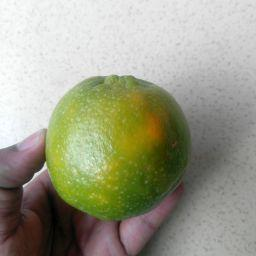Unripe: (46, 75, 189, 216)
